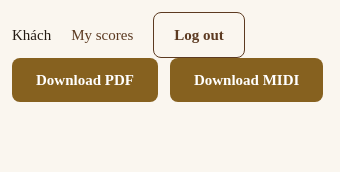
Scenario: Tài khoản khách (web) › thanh toán ẩn: tải trả 402 mã paywall không chuyển sang /pricing, hiện lỗi tải chung
Expected: the text "Khách" is shown, [12,23,51,47]
Click the button "Download PDF": (85, 80) [12,58,158,102]
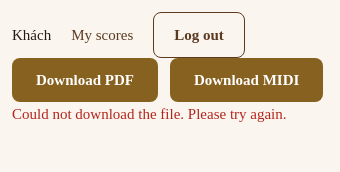
Expected: the message shows "Could not download the file", [12,106,286,122]
